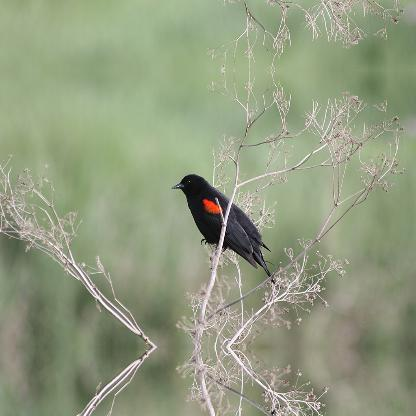Bird: (181, 170, 267, 272)
